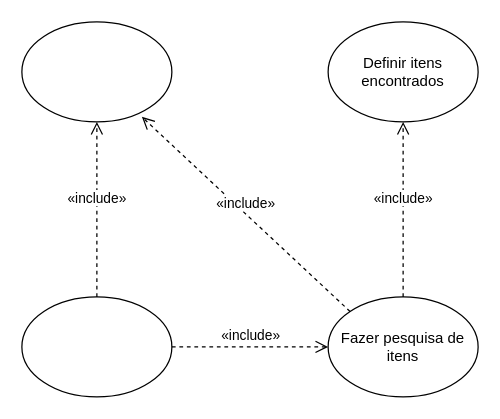
The diagram is 500 pixels wide and 419 high, and some of its shapes have lost their labels. Here are the shapes that lost their labels. From the top down, the centre of each, then its label:
At (96,71): "Selecionar opção do menu".
At (96,346): "Construir carrinho".
